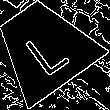L_NW: (16, 18, 72, 77)
